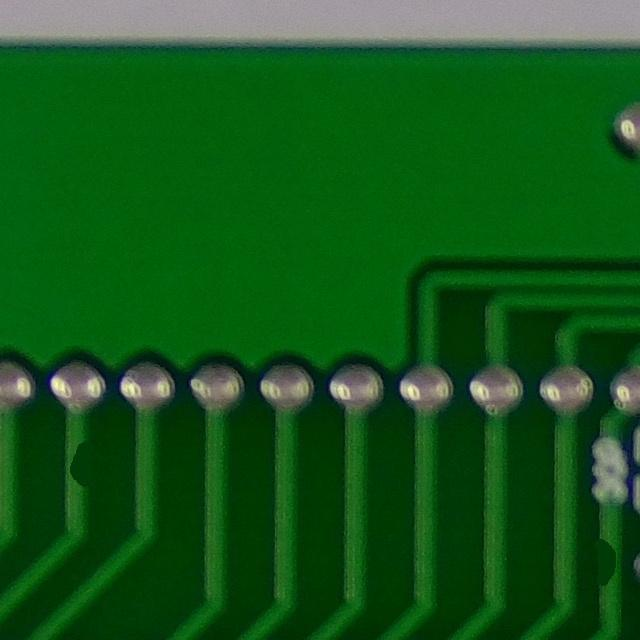mouse_bite: (50, 430, 107, 505), (586, 523, 633, 600)
